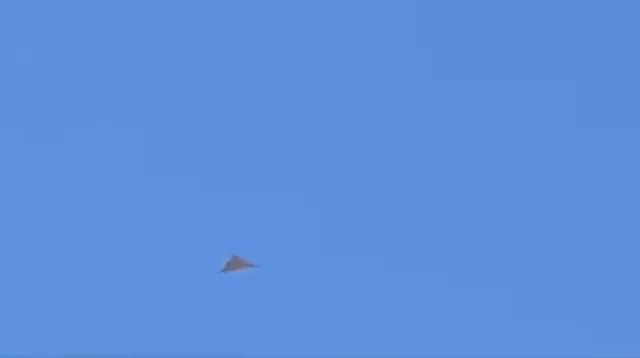shahed: (217, 253, 260, 274)
